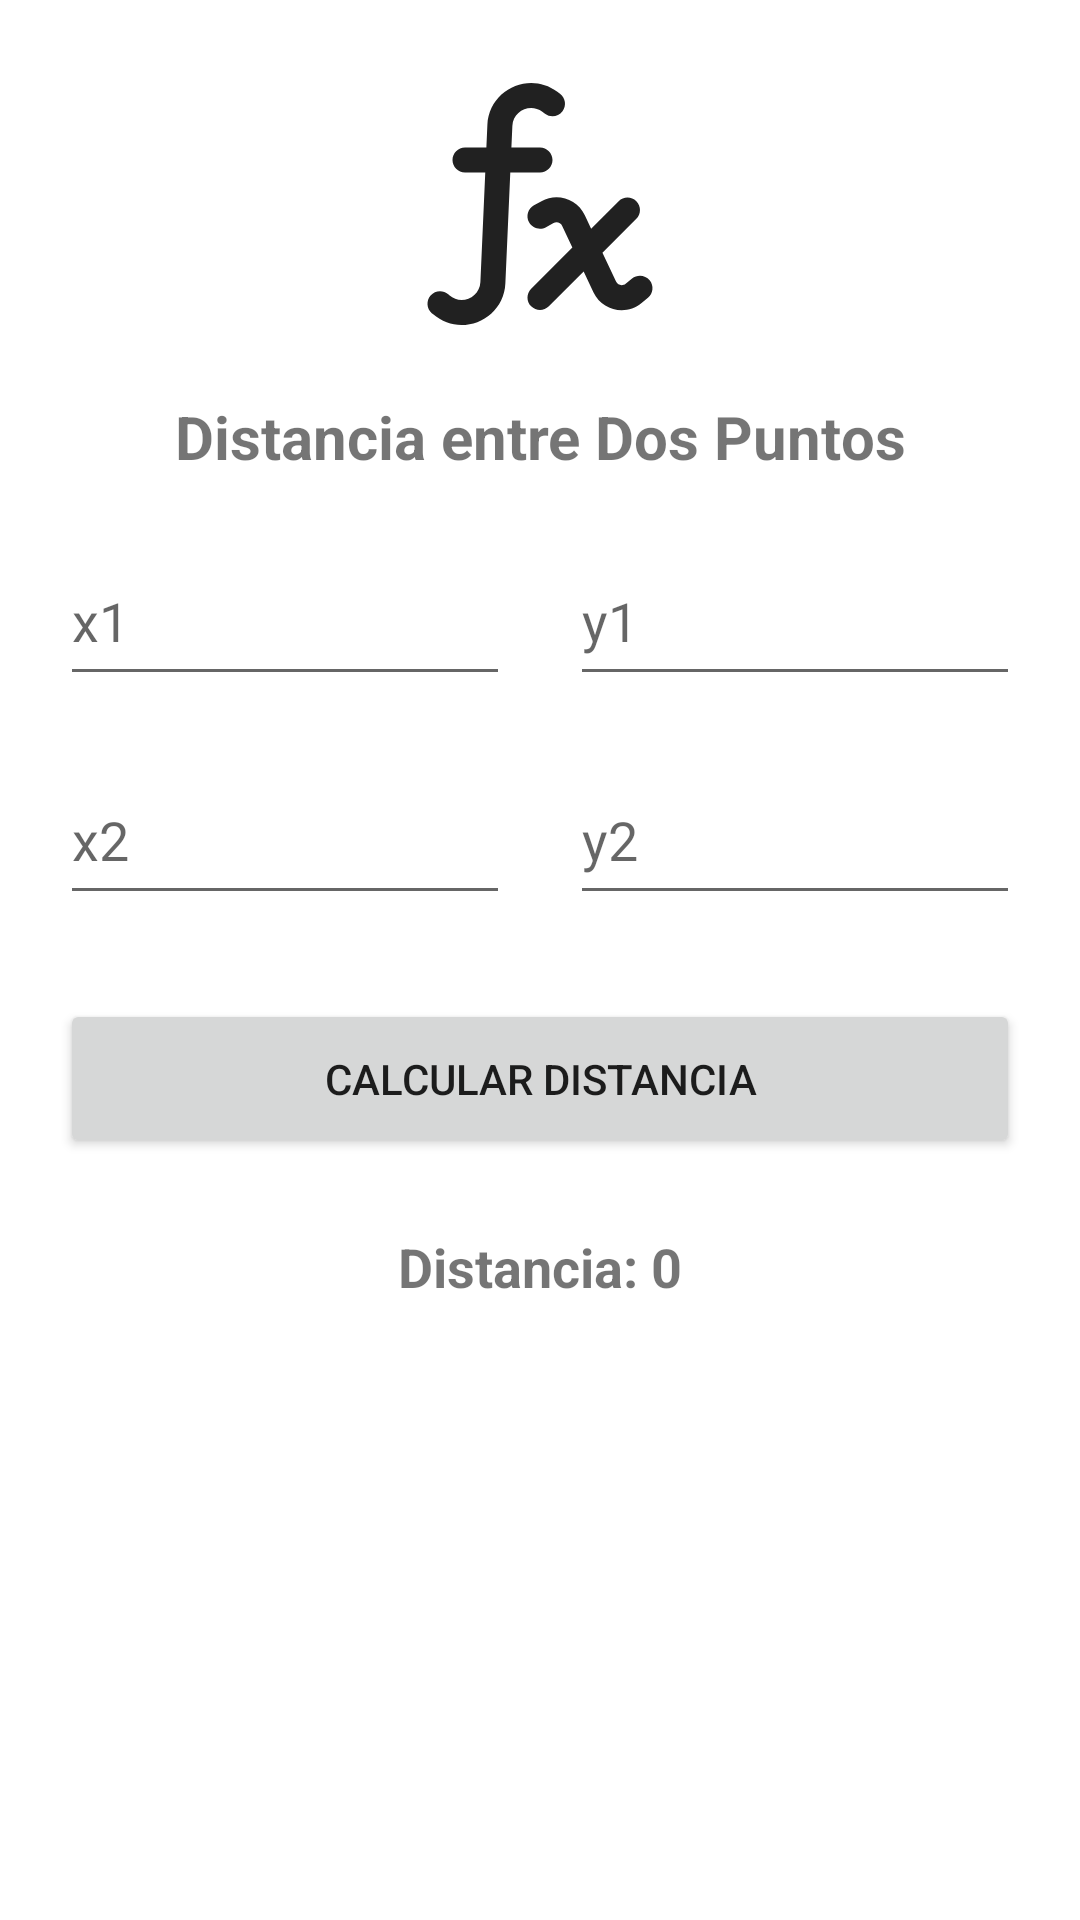

Point at icon controls on the screen. Image size 1080x1920, points as point (x, y).
math formula: point (540, 204)
